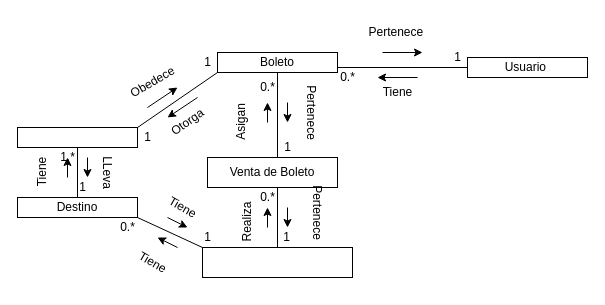
Image size: 605x305. Some labels were removed from this diagram. The box of each missing label's shape, as (x1, y1, x2, y2) in pixels:
Ruta: (16, 126, 138, 148)
Terminal de Transporte: (202, 246, 352, 278)
